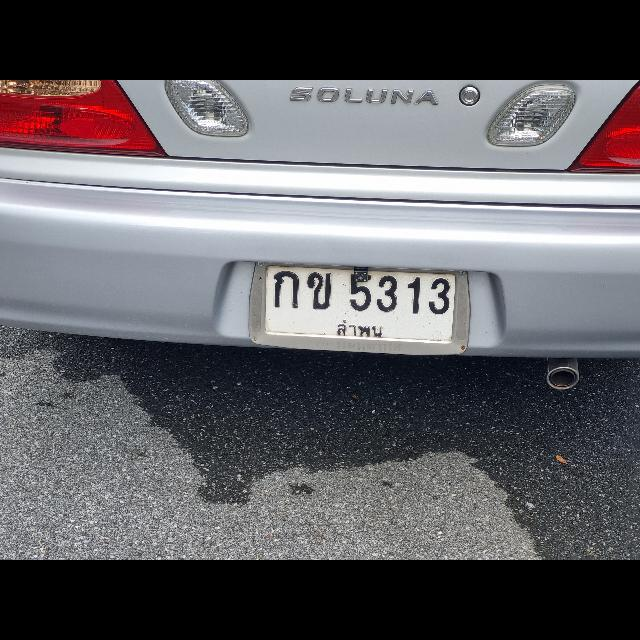licenseplate: (249, 259, 469, 355)
